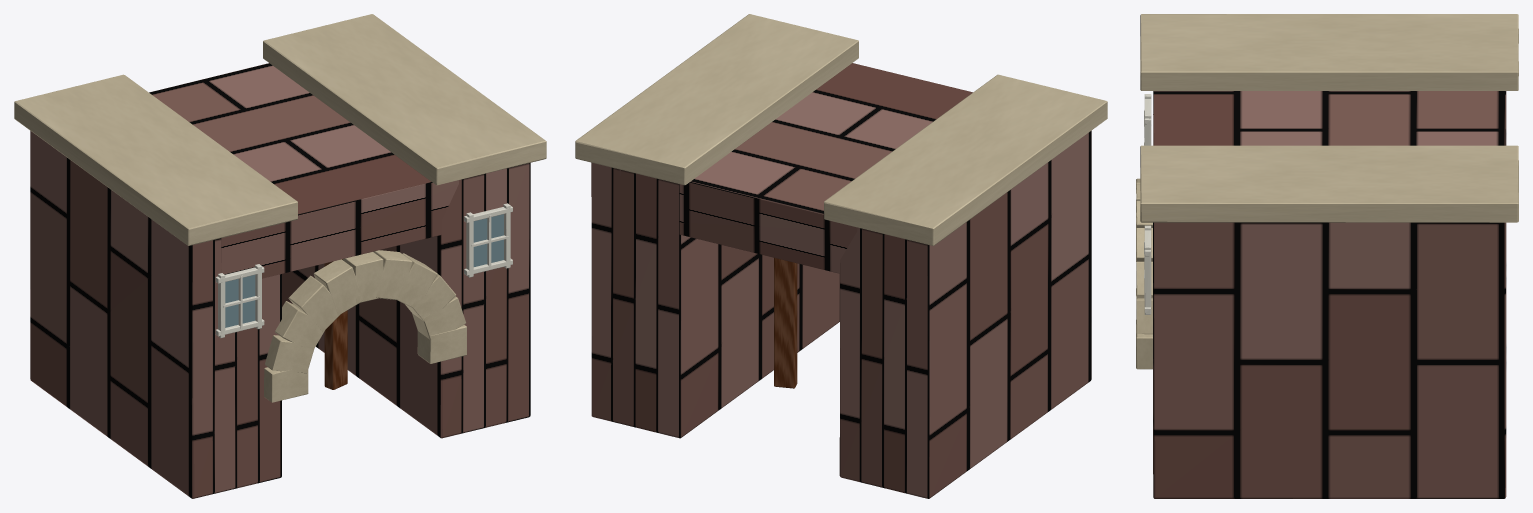
Rendered from Building_Brick_Gatehouse_01_LOD1.fbx.
The picture shows the model from 3 angles, left to right: view 1: azimuth 30°, elevation 25°; view 2: azimuth 150°, elevation 25°; view 3: azimuth 270°, elevation 25°; orthographic projection. The views are drawn at different scales.
Visible parts, largest first — view 1: Building_Brick_Gatehouse_01_OPT_Merged_ENV_Brick_Red_OPT_DAT, Building_Brick_Gatehouse_01_OPT_Merged_ENV_Plaster_Ochre_OPT, Building_Brick_Gatehouse_01_OPT_Merged_ENV_Paint_White_OPT_D, Building_Brick_Gatehouse_01_OPT_Merged_ENV_Window_Glass_OPT_, Building_Brick_Gatehouse_01_OPT_Merged_RB_Wood_Walnut_OPT_DA; view 2: Building_Brick_Gatehouse_01_OPT_Merged_ENV_Brick_Red_OPT_DAT, Building_Brick_Gatehouse_01_OPT_Merged_ENV_Plaster_Ochre_OPT, Building_Brick_Gatehouse_01_OPT_Merged_RB_Wood_Walnut_OPT_DA; view 3: Building_Brick_Gatehouse_01_OPT_Merged_ENV_Brick_Red_OPT_DAT, Building_Brick_Gatehouse_01_OPT_Merged_ENV_Plaster_Ochre_OPT, Building_Brick_Gatehouse_01_OPT_Merged_ENV_Paint_White_OPT_D.
Part boxes in pixels (x1,y1,x2,y2): Building_Brick_Gatehouse_01_OPT_Merged_ENV_Brick_Red_OPT_DAT: (30, 63, 530, 498); Building_Brick_Gatehouse_01_OPT_Merged_ENV_Plaster_Ochre_OPT: (14, 14, 546, 402); Building_Brick_Gatehouse_01_OPT_Merged_ENV_Paint_White_OPT_D: (215, 203, 512, 338); Building_Brick_Gatehouse_01_OPT_Merged_ENV_Window_Glass_OPT_: (225, 214, 503, 327); Building_Brick_Gatehouse_01_OPT_Merged_RB_Wood_Walnut_OPT_DA: (324, 259, 347, 389); Building_Brick_Gatehouse_01_OPT_Merged_ENV_Brick_Red_OPT_DAT: (591, 63, 1091, 498); Building_Brick_Gatehouse_01_OPT_Merged_ENV_Plaster_Ochre_OPT: (575, 14, 1107, 245); Building_Brick_Gatehouse_01_OPT_Merged_RB_Wood_Walnut_OPT_DA: (774, 258, 797, 388); Building_Brick_Gatehouse_01_OPT_Merged_ENV_Brick_Red_OPT_DAT: (1153, 91, 1506, 498); Building_Brick_Gatehouse_01_OPT_Merged_ENV_Plaster_Ochre_OPT: (1136, 14, 1518, 369); Building_Brick_Gatehouse_01_OPT_Merged_ENV_Paint_White_OPT_D: (1144, 94, 1151, 314).
Size of what is drawn, in the model's own units: 535 by 396 by 455.
Materials: 5 (3 with a texture image).
